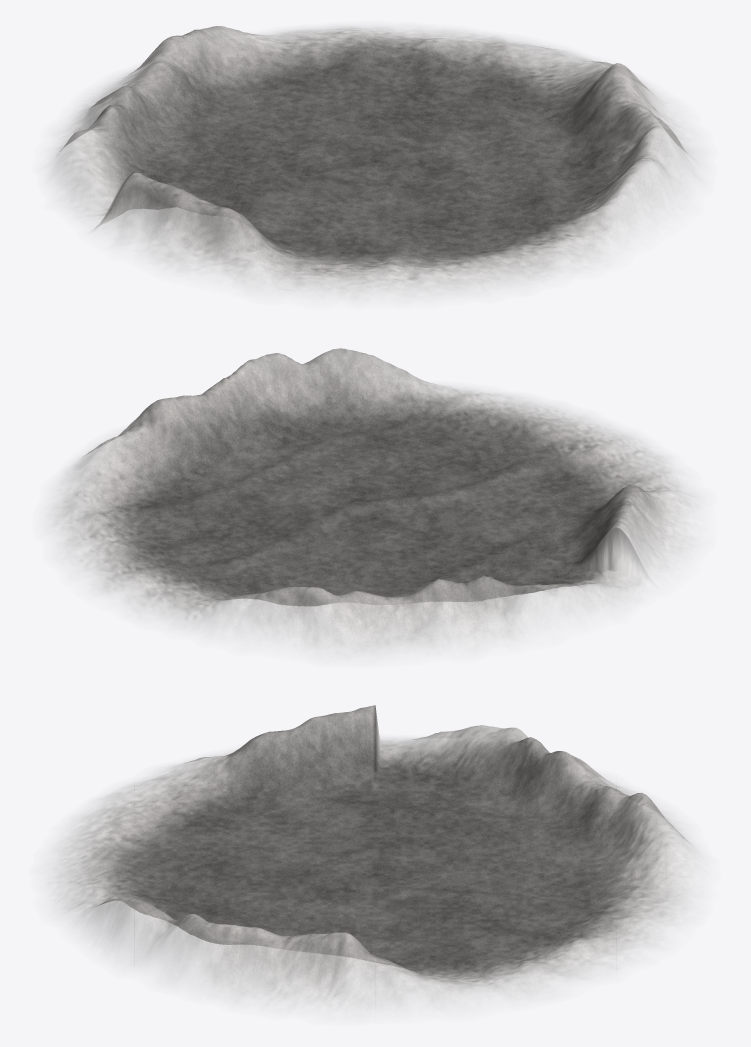
The model's file is mare.glb.
The picture shows the model from 3 angles, top to bottom: view 1: azimuth 30°, elevation 25°; view 2: azimuth 150°, elevation 25°; view 3: azimuth 270°, elevation 25°; orthographic projection.
Parts seen in each view (by area): view 1: mare; view 2: mare; view 3: mare.
Part boxes in pixels (bbox=[...]): mare: bbox=[49, 25, 703, 302]; mare: bbox=[46, 348, 703, 658]; mare: bbox=[45, 705, 706, 1017].
Bounding box in the file's own units: 6 × 0.5342 × 6.
Materials: 1 (1 with a texture image).
